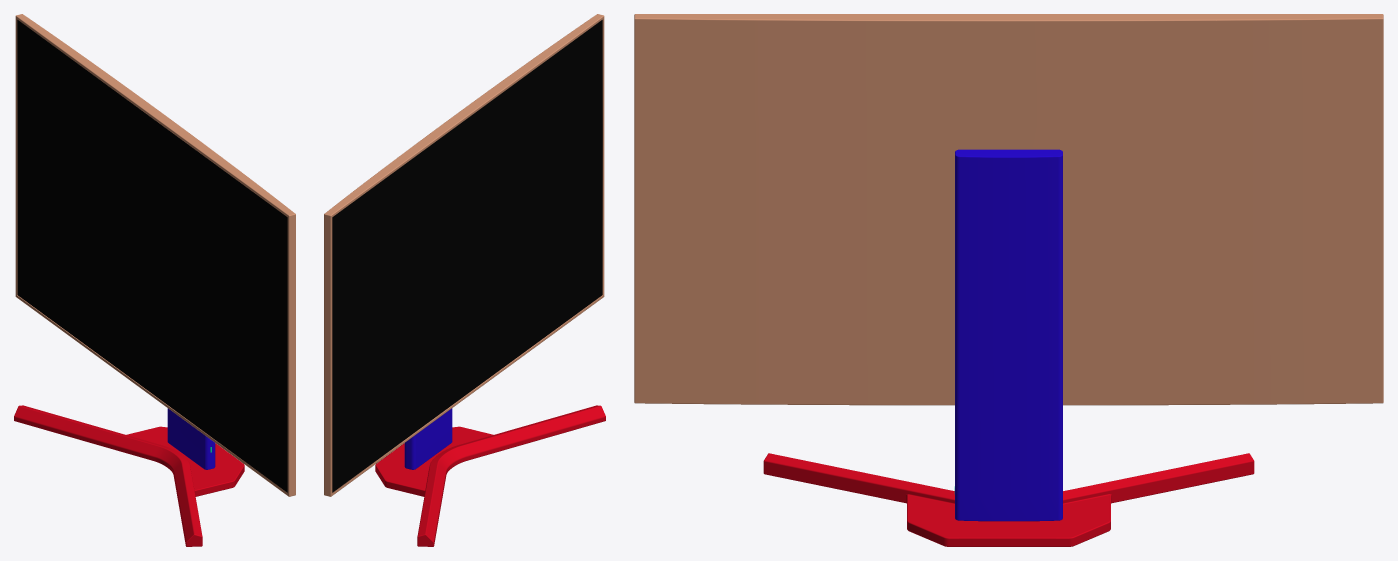
The model's file is PCmonitor.fbx.
3 views of the same model, side by side, from view 1: azimuth 30°, elevation 25°; view 2: azimuth 150°, elevation 25°; view 3: azimuth 270°, elevation 25° (orthographic). The views are drawn at different scales.
Visible parts, largest first — view 1: Screen, Main_low; view 2: Screen, Main_low; view 3: Main_low.
Boxes of the visible parts, x1,y1,x2,y2 form: Screen: [17, 20, 287, 492]; Main_low: [14, 14, 295, 546]; Screen: [332, 20, 602, 492]; Main_low: [324, 14, 605, 546]; Main_low: [634, 14, 1383, 546].
Bounding box in the file's own units: 18.42 × 51.39 × 71.64.
